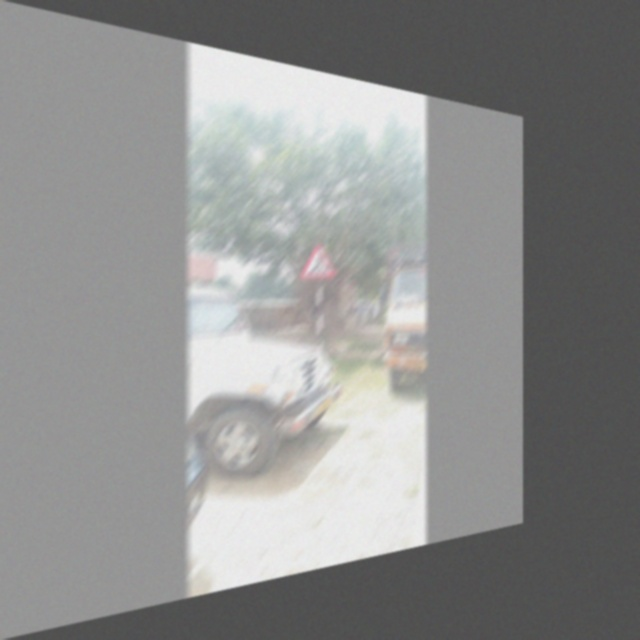Pedestrian_Crossing: (295, 235, 344, 282)
